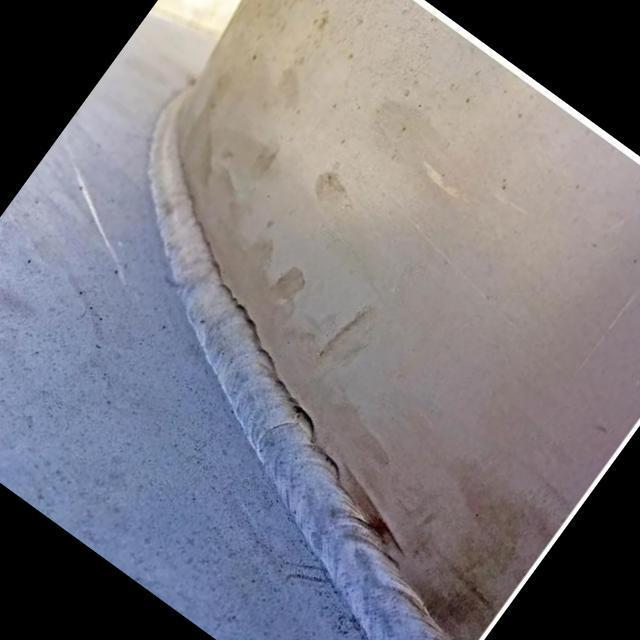defect: (176, 142, 320, 444)
